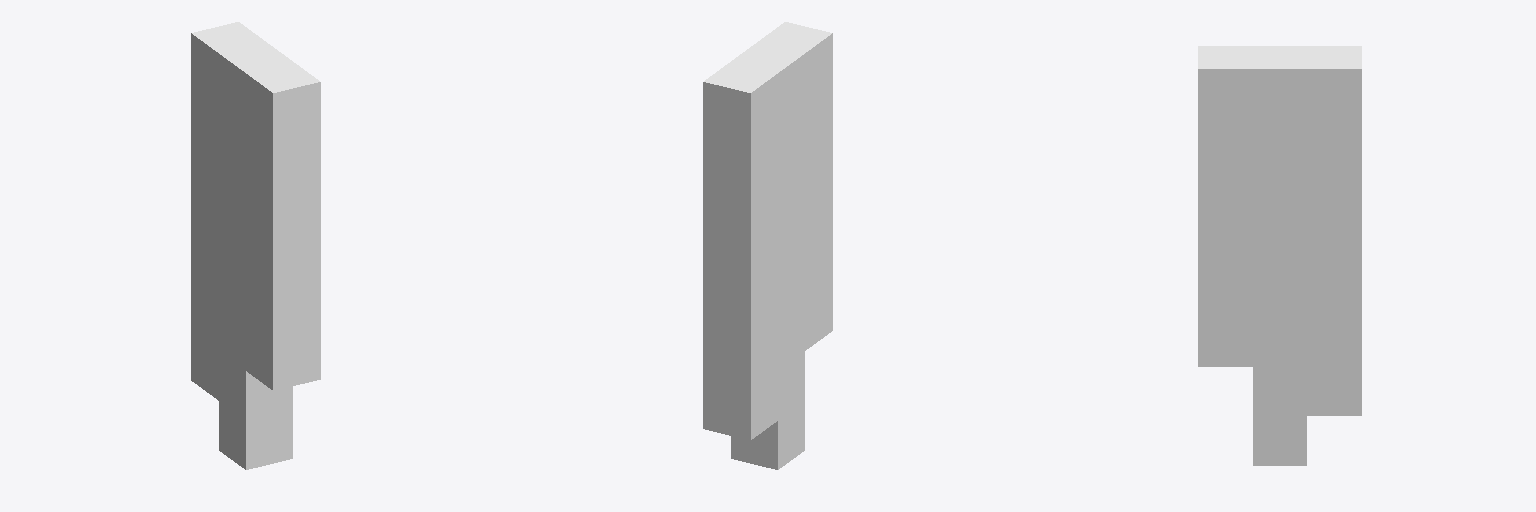
File: anim_player_snowman_penskin_arm.obj
3 renders of one model, left to right at view 1: azimuth 30°, elevation 25°; view 2: azimuth 150°, elevation 25°; view 3: azimuth 270°, elevation 25°, orthographic.
Parts seen in each view (by area): view 1: object 1; view 2: object 1; view 3: object 1.
Part boxes in pixels (x1,y1,x2,y2): object 1: (191, 22, 320, 469); object 1: (703, 22, 832, 469); object 1: (1198, 46, 1361, 465).
Size of the model in its own units: 0.1 by 0.8 by 0.3.